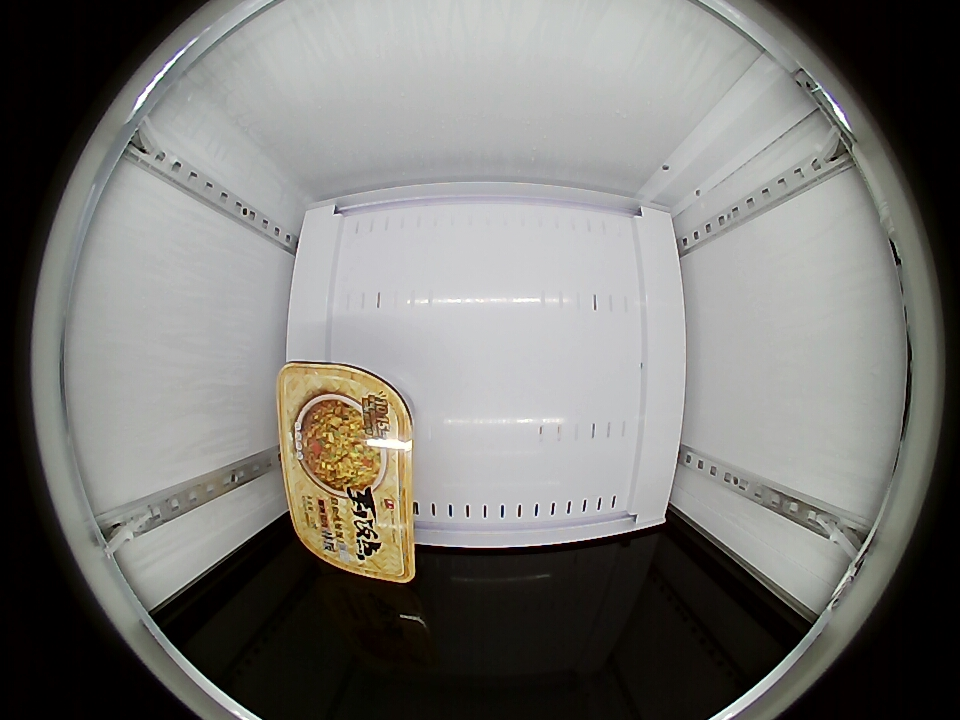daofandian3: (277, 360, 415, 584)
